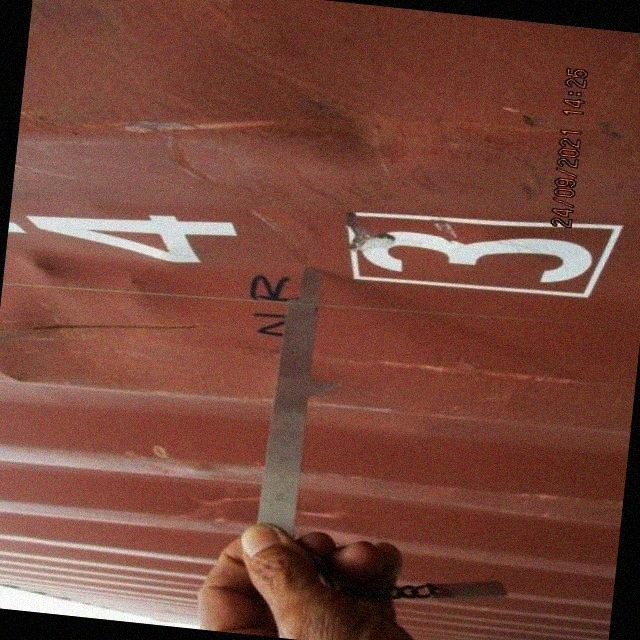Dent: (20, 16, 625, 510)
